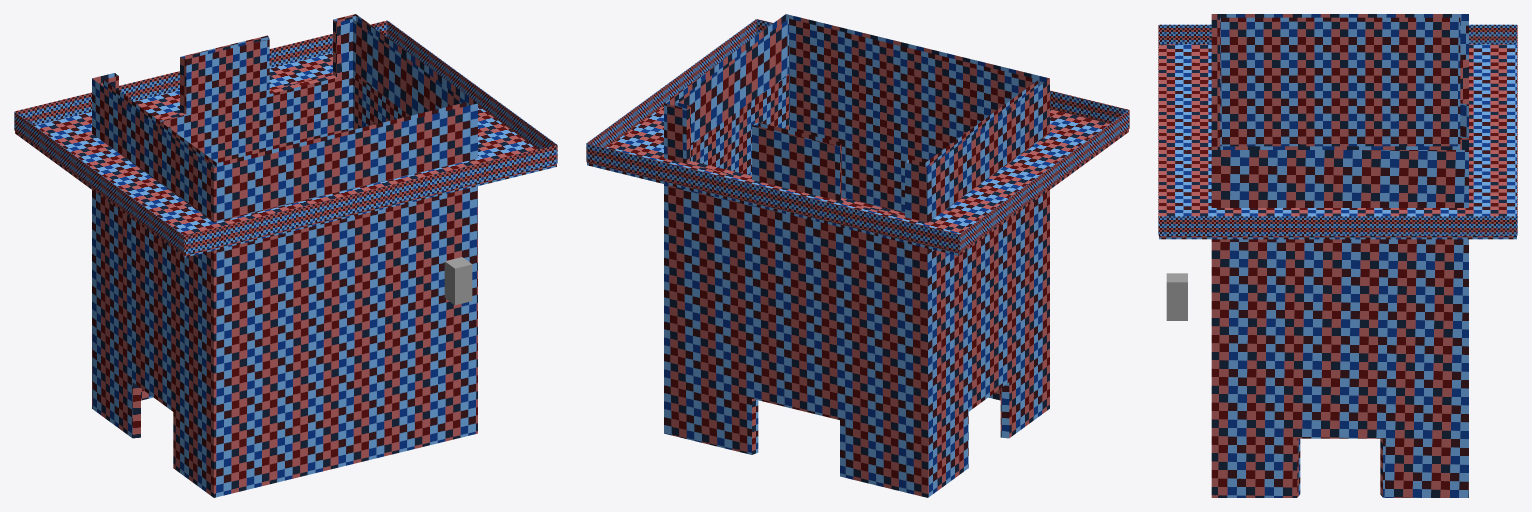
The model's file is radio_tower_02.fbx.
3 views of the same model, side by side, from view 1: azimuth 30°, elevation 25°; view 2: azimuth 150°, elevation 25°; view 3: azimuth 270°, elevation 25° (orthographic). The views are drawn at different scales.
Parts seen in each view (by area): view 1: radio_tower_01; view 2: radio_tower_01; view 3: radio_tower_01.
Boxes of the visible parts, x1,y1,x2,y2 form: radio_tower_01: (14,14,557,497); radio_tower_01: (586,14,1129,497); radio_tower_01: (1158,14,1517,497).
Size of the model in its own units: 2132 by 1800 by 1684.
2 materials, 1 textured.
